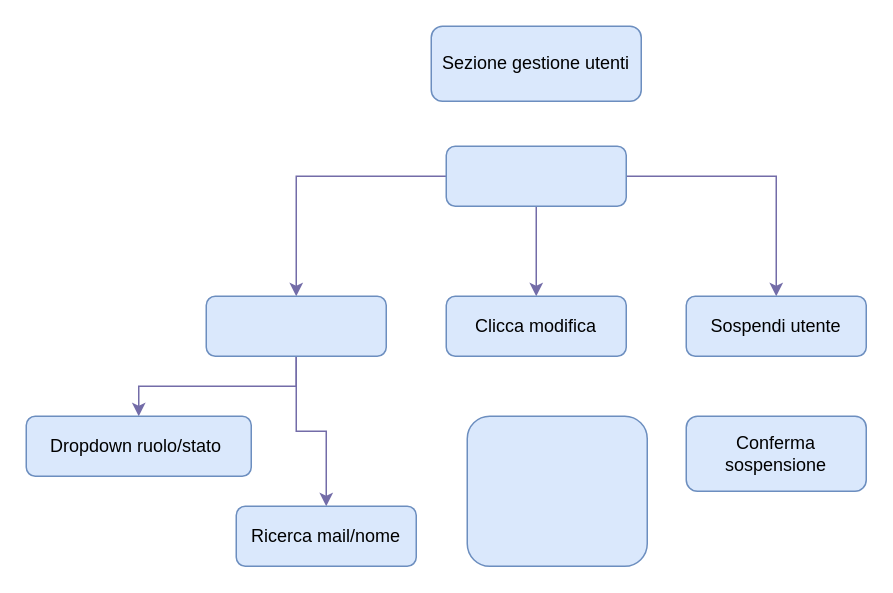
This 893x593 diagram has some shape labels left out. Here are the shapes that lost their labels. From the top down, the box of each, then its label:
(445, 145, 626, 206): Tabella utenti
(205, 295, 386, 356): Ricerca filtri
(466, 415, 647, 566): Modifica: - Ruolo - Permessi - Attiva 2FA - ...
